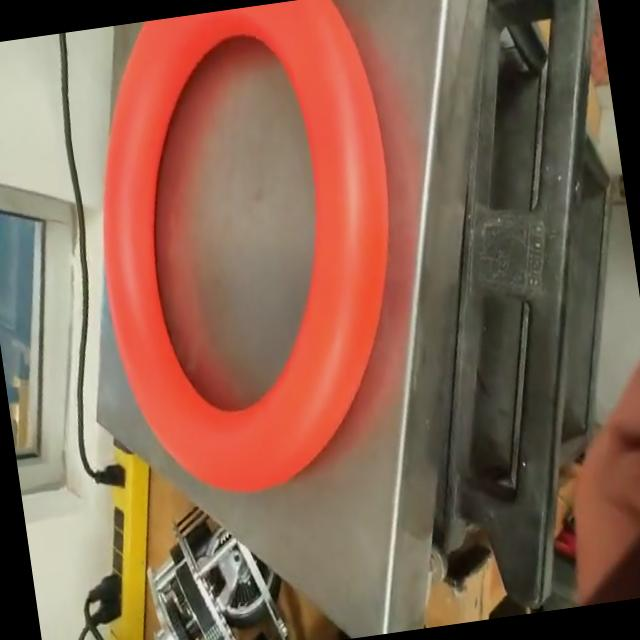note: (64, 0, 435, 517)
